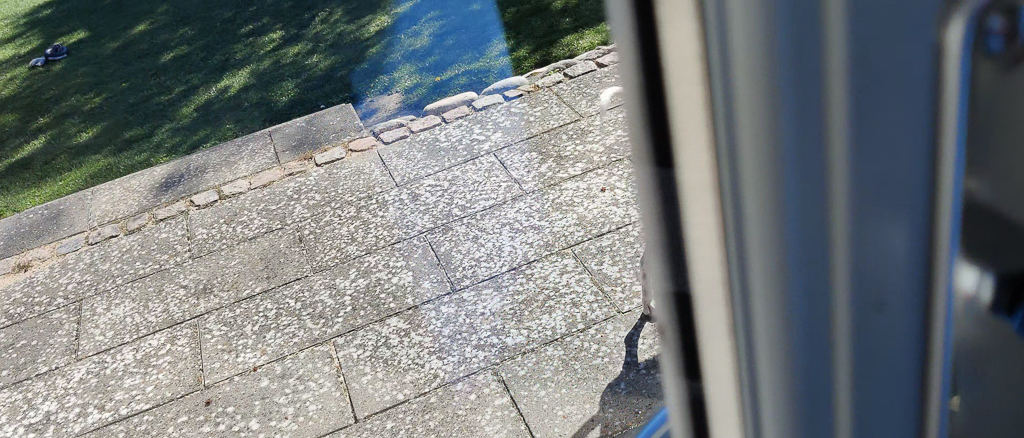Dog: (595, 80, 664, 324)
